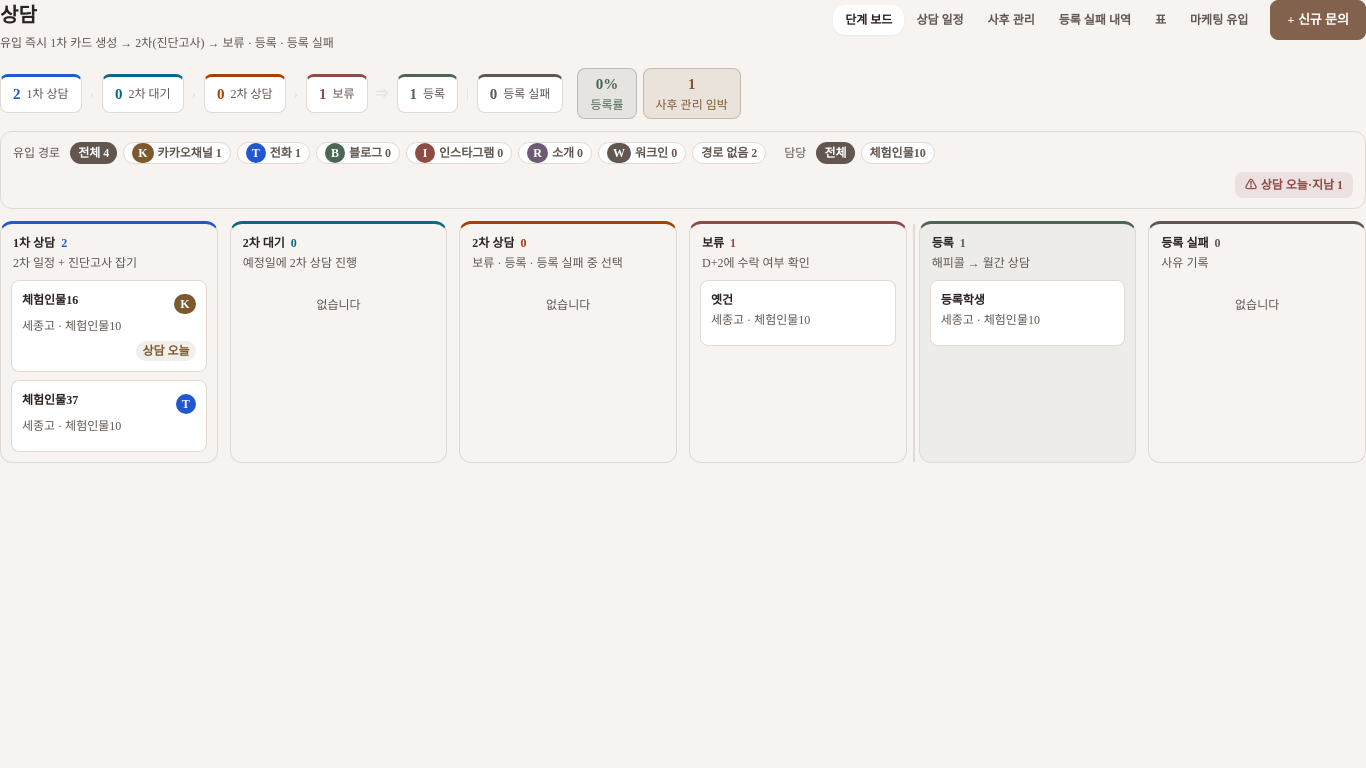
it: §23 상담 입구 (C90 · N-44 · N-45) › 「+ 신규 문의」는 이름·유입 경로가 있어야 접수가 서고, 단계 없이 이름·경로·담당·첫 접촉 한 줄만 보낸다 (A-01)
Click the button "+ 신규 문의" at coordinates (1318, 20), box x1=1270 y1=0 x2=1365 y2=40
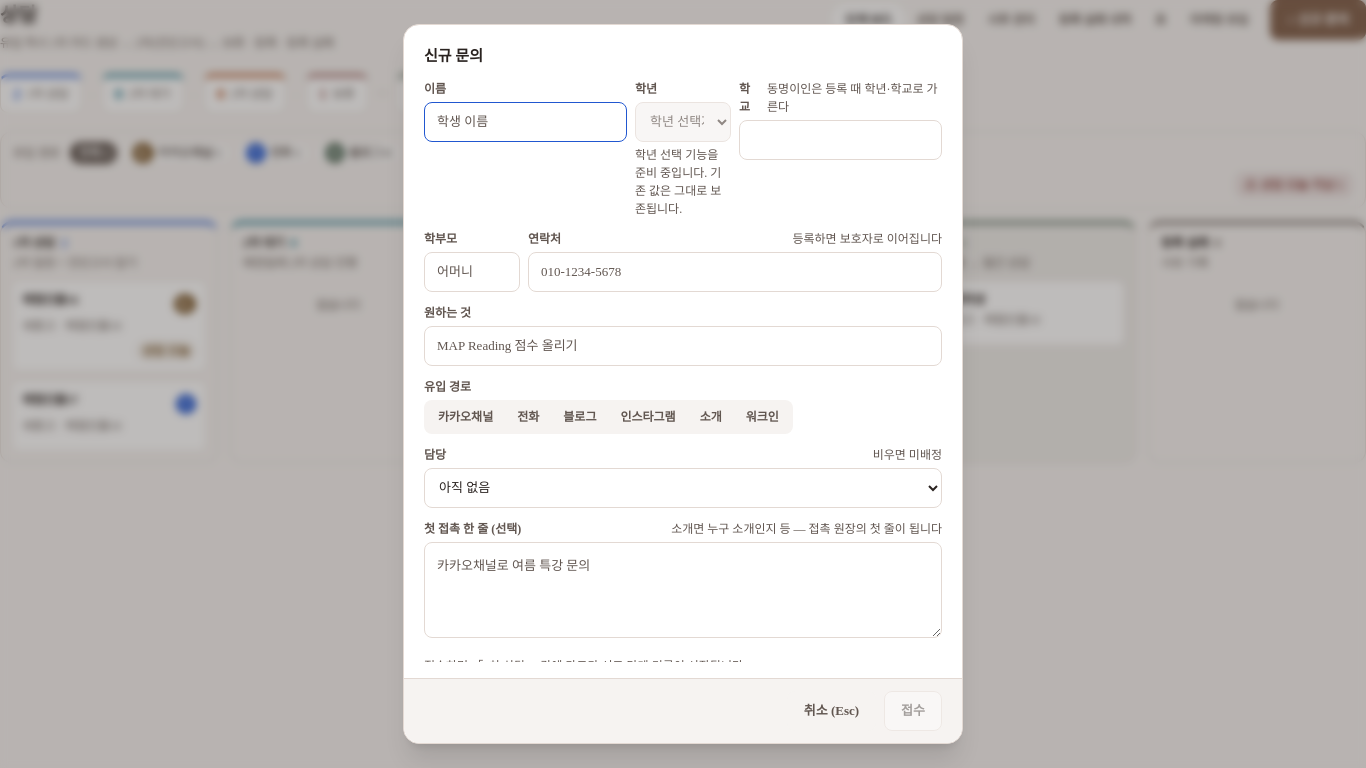
Result: the button "접수" is disabled at x1=884 y1=691 x2=942 y2=731
Result: the buttons read "카카오채널", "전화", "블로그", "인스타그램", "소개", "워크인", in this order at x1=426 y1=402 x2=505 y2=432; x1=505 y1=402 x2=551 y2=432; x1=551 y1=402 x2=608 y2=432; x1=608 y1=402 x2=688 y2=432; x1=688 y1=402 x2=734 y2=432; x1=734 y1=402 x2=791 y2=432
Type " 민지수 " into the field labelled "이름" at coordinates (526, 122), box x1=424 y1=102 x2=627 y2=142
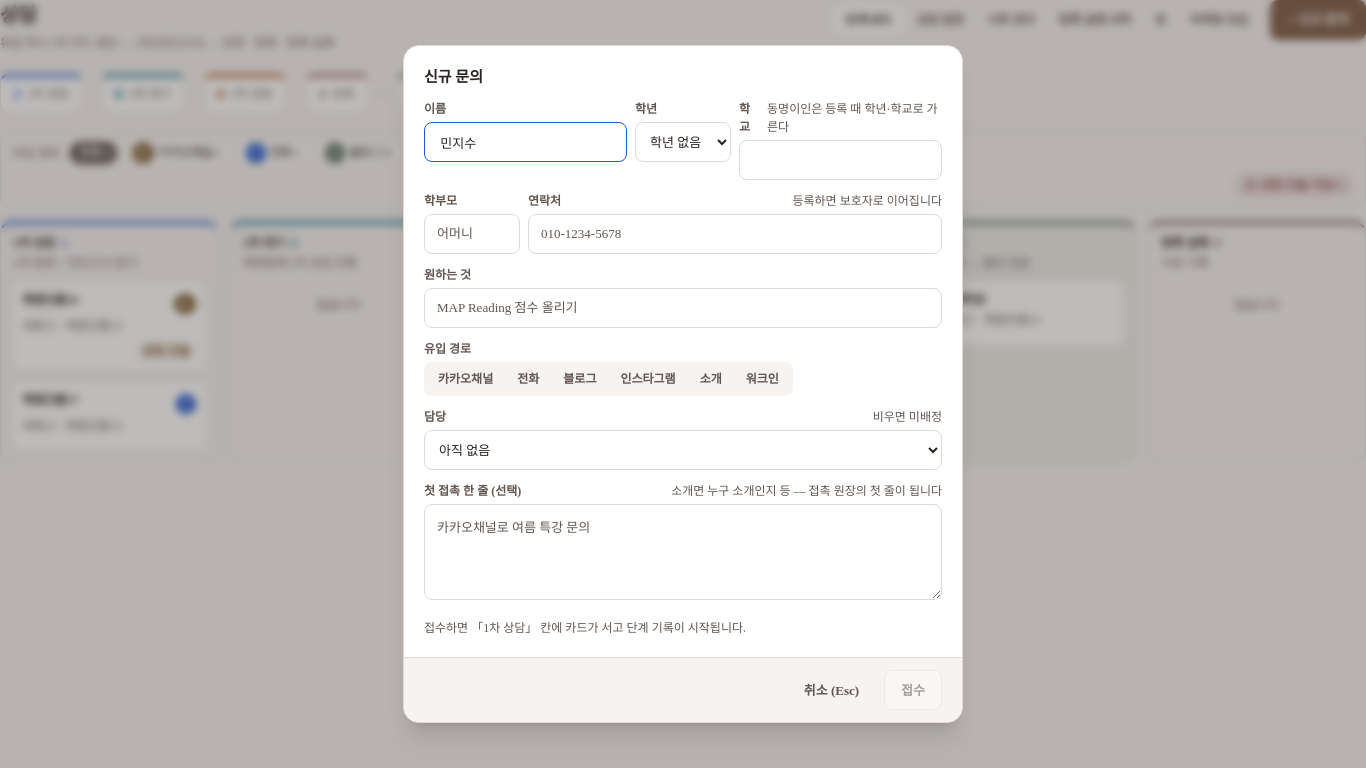
Result: the button "접수" is disabled at x1=884 y1=670 x2=942 y2=710
Click the button "카카오채널" at coordinates (466, 379), box x1=426 y1=364 x2=505 y2=394
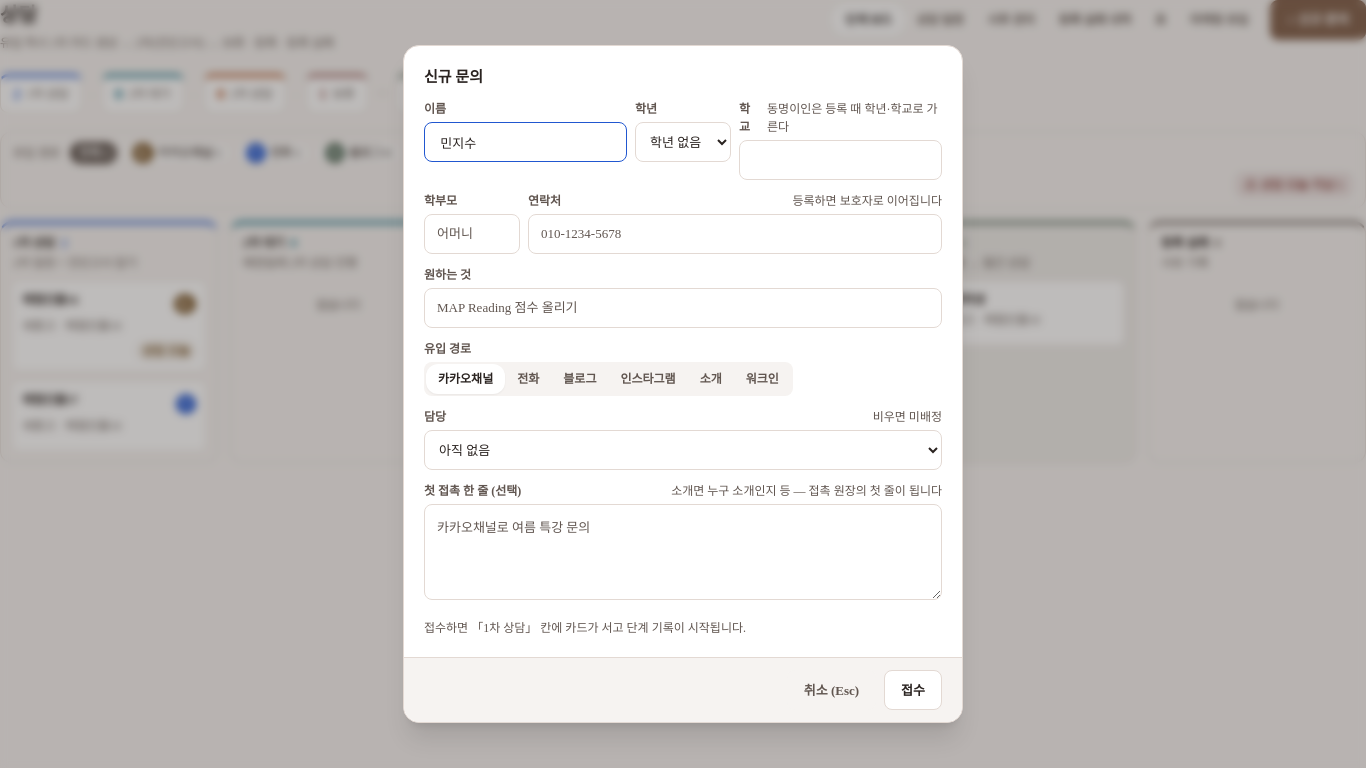
Result: the button "접수" is enabled at x1=884 y1=670 x2=942 y2=710
Select "체험인물10" in the dropdown labelled "담당" at coordinates (683, 450), box x1=424 y1=430 x2=942 y2=470
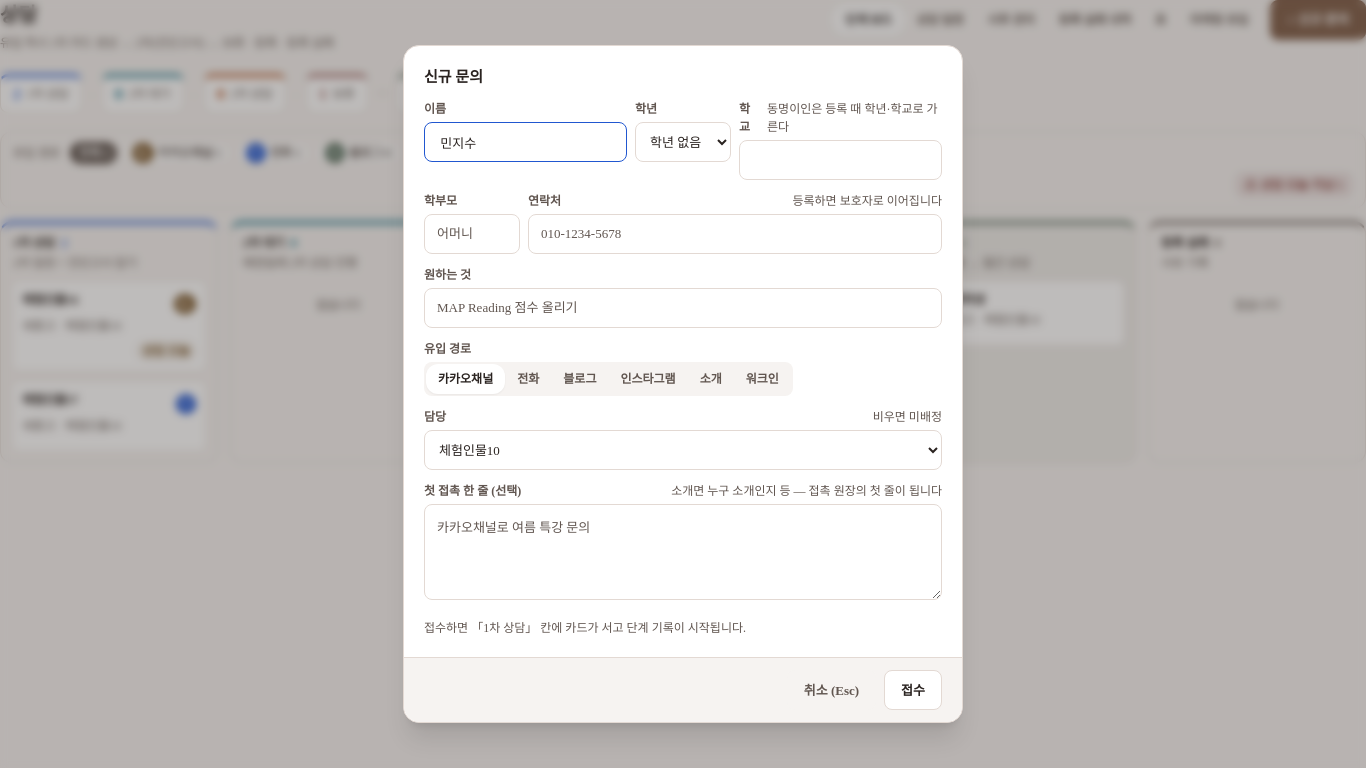
Type "SAT 여름 특강 문의" into the text box labelled "첫 접촉 한 줄 (선택)" at coordinates (683, 552), box x1=424 y1=504 x2=942 y2=600
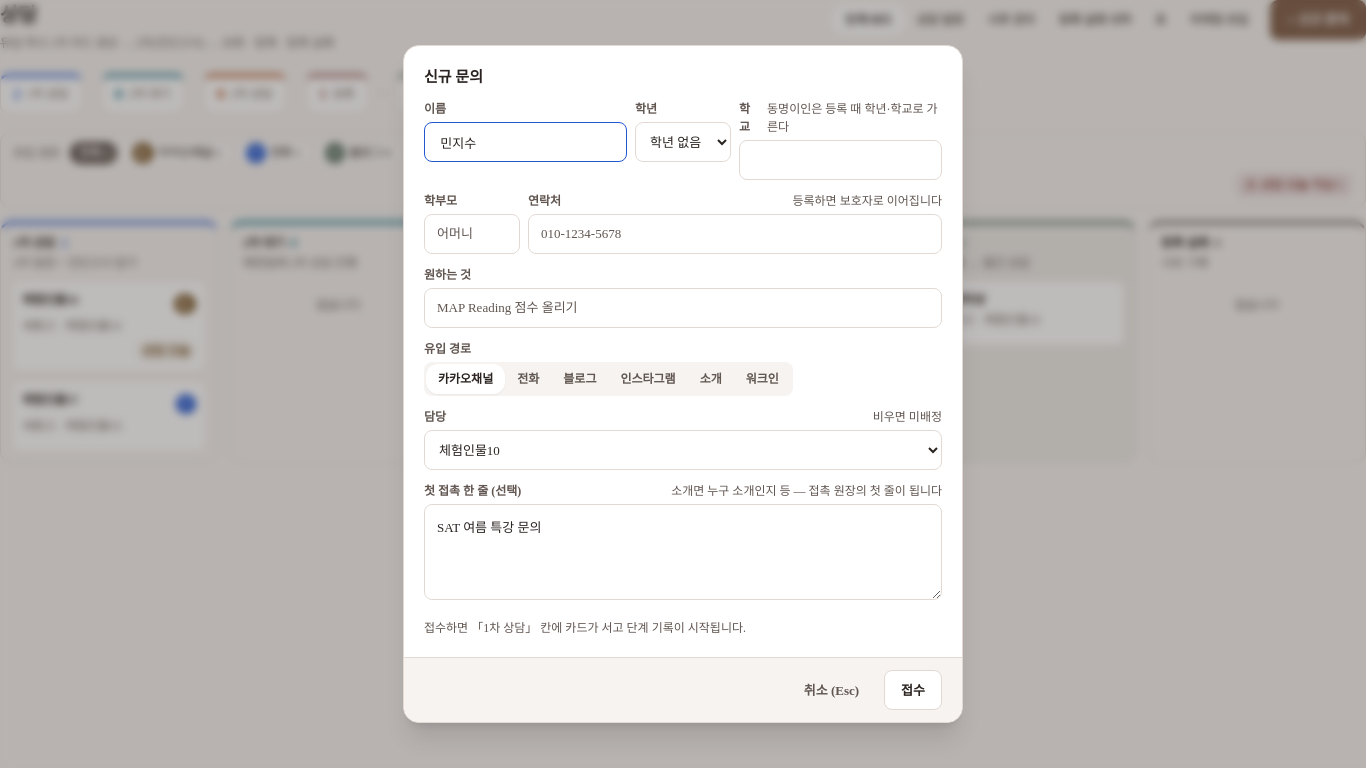
Click the button "접수" at coordinates (913, 690), box x1=884 y1=670 x2=942 y2=710
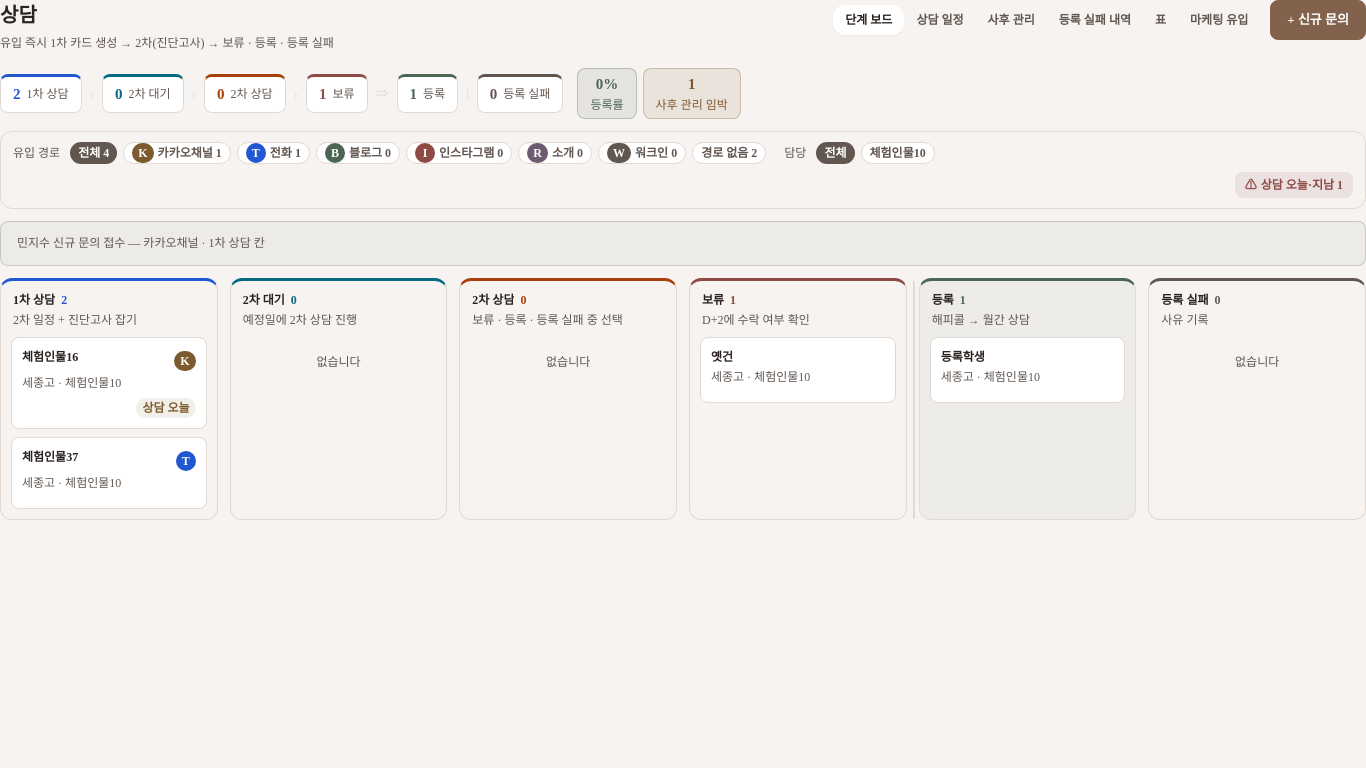
Result: the text "민지수 신규 문의 접수 — 카카오채널 · 1차 상담 칸" is shown at x1=0 y1=220 x2=1365 y2=266
